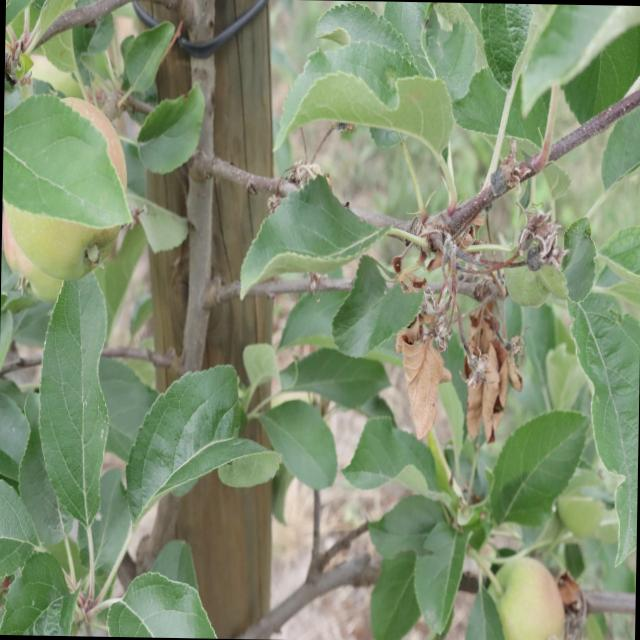-FireBlight-: (386, 251, 454, 442), (457, 296, 525, 452)
